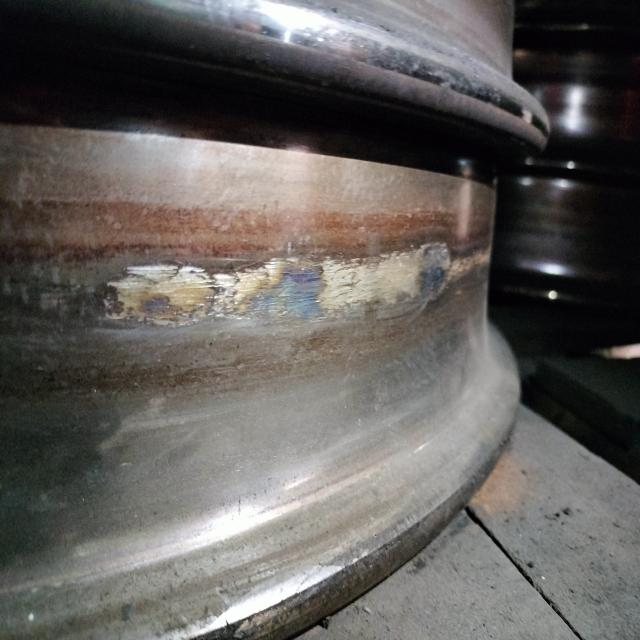flat: (106, 239, 461, 330)
